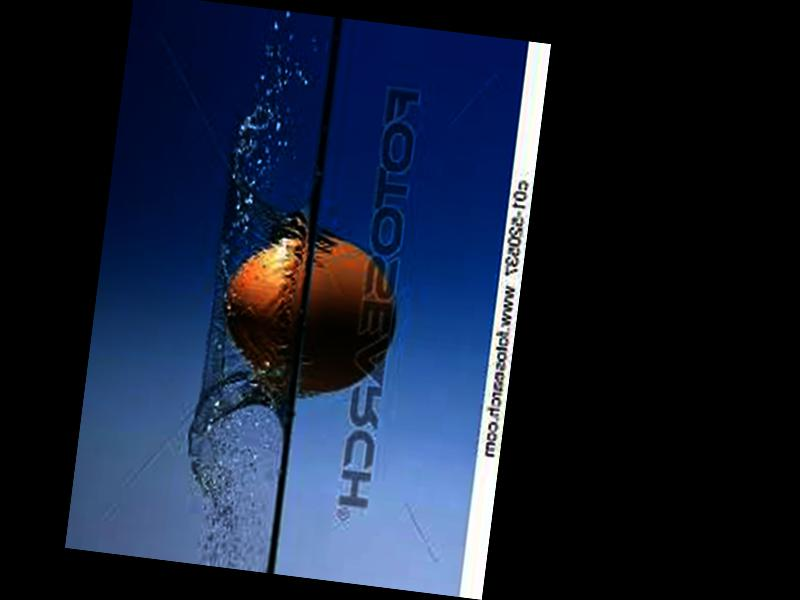Eggs: (214, 225, 402, 402)
